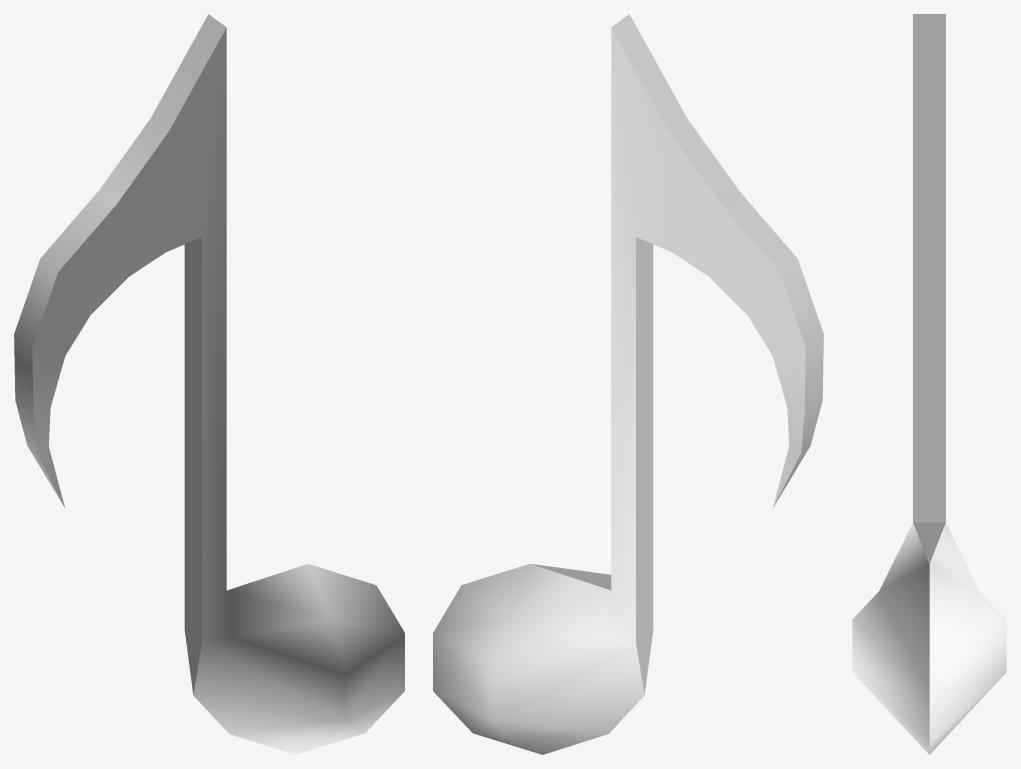
File: KREVO.ICN.obj
The picture shows the model from 3 angles, left to right: view 1: azimuth 30°, elevation 25°; view 2: azimuth 150°, elevation 25°; view 3: azimuth 270°, elevation 25°; orthographic projection. The views are drawn at different scales.
Size of the model in its own units: 2.65 by 5 by 1.03.
Materials: 1 (1 with a texture image).
